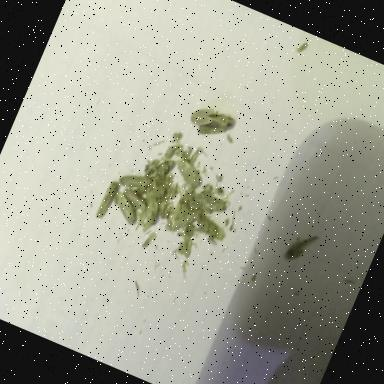pbw: (195, 104, 238, 146), (168, 198, 206, 239), (168, 152, 207, 190), (92, 175, 122, 223), (106, 190, 144, 226), (116, 184, 154, 216), (192, 212, 230, 244), (174, 219, 203, 260), (146, 151, 177, 187), (116, 166, 152, 195), (138, 190, 166, 226), (187, 100, 216, 130)
